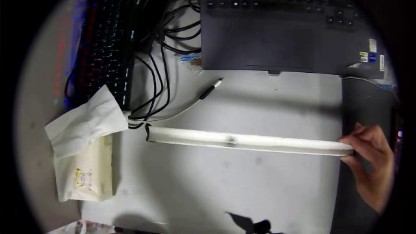gangzhu: (225, 135, 239, 146)
